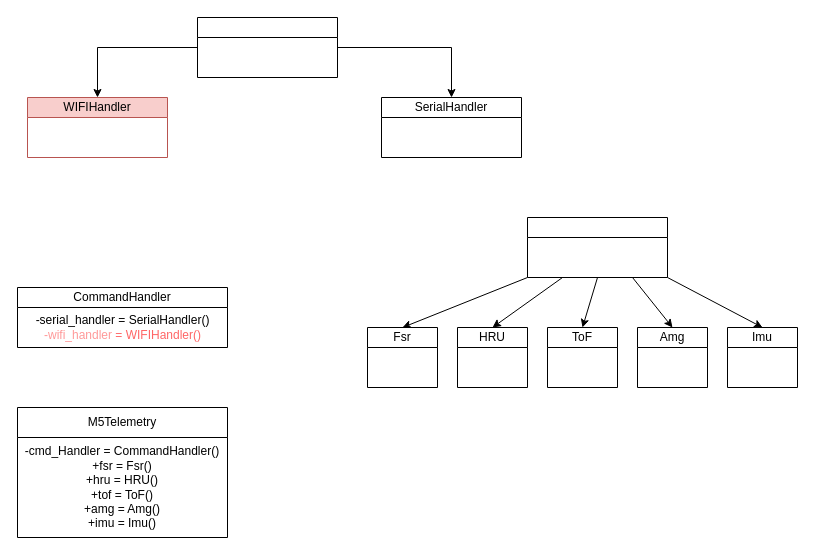
This 815x555 diagram has some shape labels left out. Here are the shapes that lost their labels. From the top down, the centre of each, then its label:
the point at 267,47: AbsHandler
the point at 597,247: DeviceAbs
